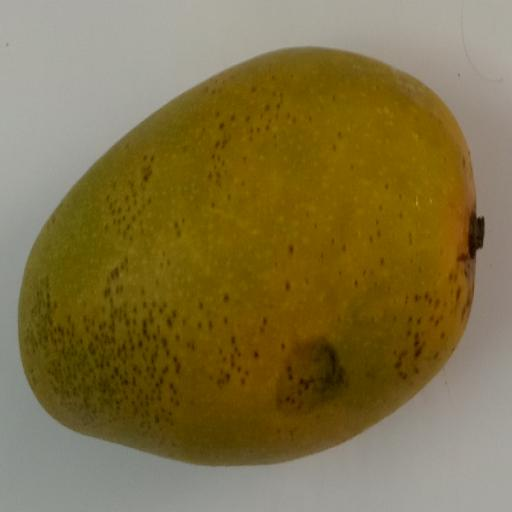mango-ripe: (2, 20, 495, 480)
